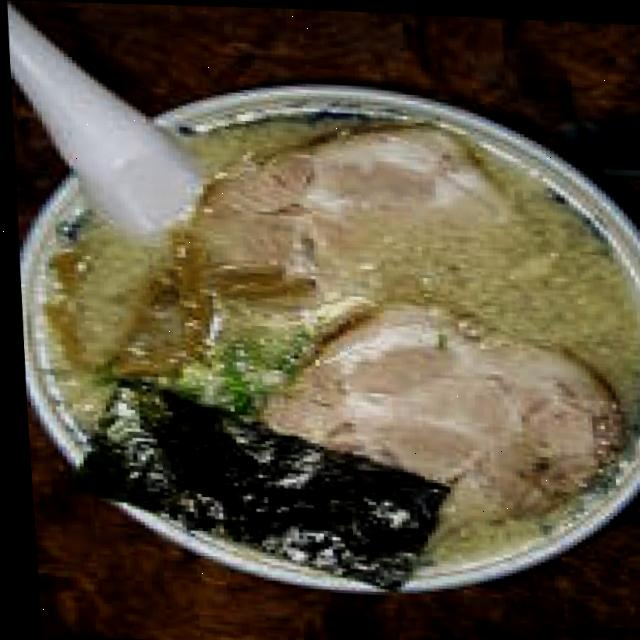面条主食: (4, 75, 640, 605)
